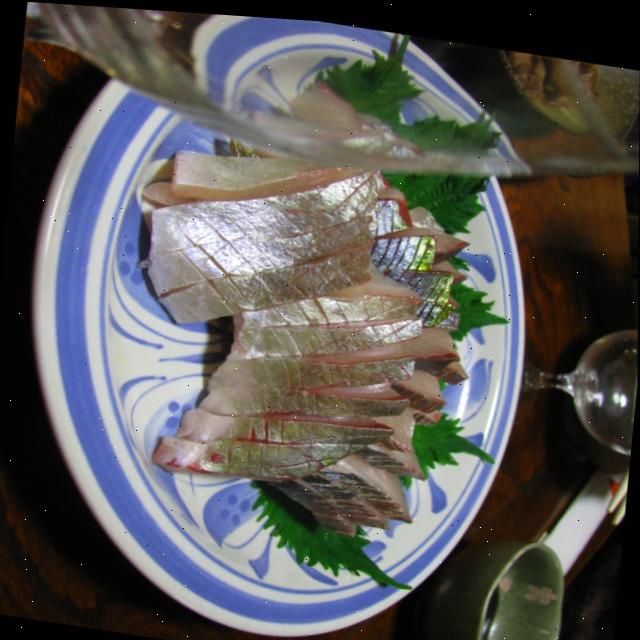刺身生食: (60, 21, 580, 604)
